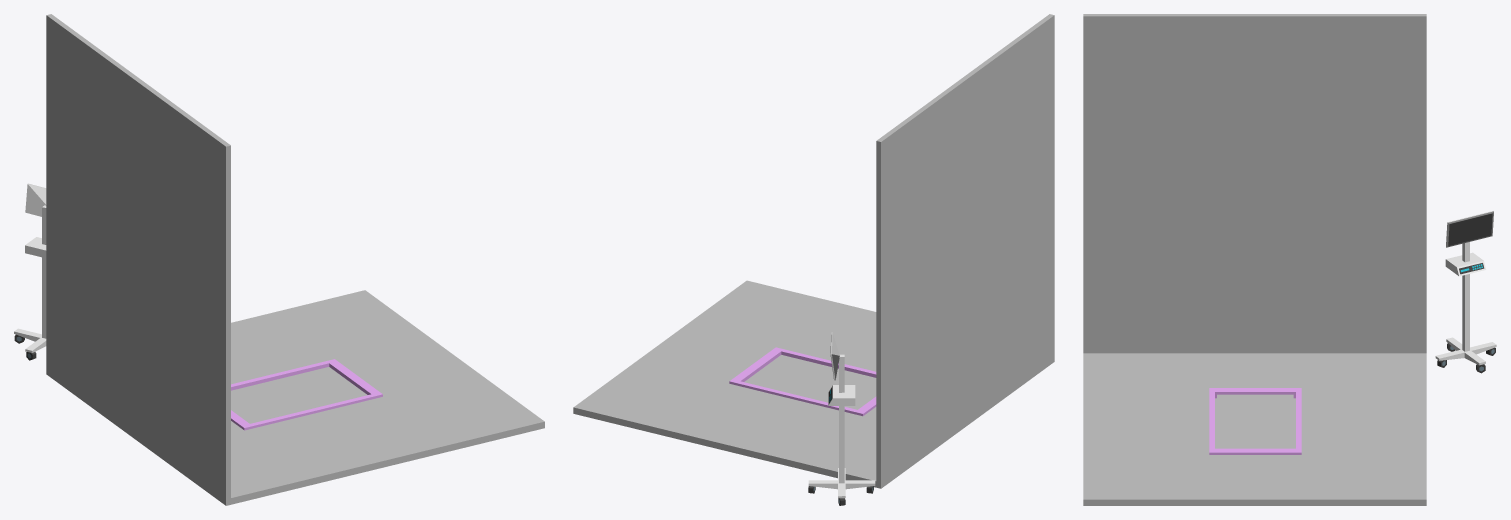
Rendered from jump2.glb.
The picture shows the model from 3 angles, left to right: view 1: azimuth 30°, elevation 25°; view 2: azimuth 150°, elevation 25°; view 3: azimuth 270°, elevation 25°; orthographic projection. The views are drawn at different scales.
Parts seen in each view (by area): view 1: 物件_4, 物件_5, 物件_3, 物件_1, 图层 01; view 2: 物件_4, 物件_5, 物件_3, 图层 01, 物件_1; view 3: 物件_4, 物件_5, 物件_3, 图层 01, 物件_1.
Boxes of the visible parts, x1,y1,x2,y2 form: 物件_4: [46, 14, 230, 505]; 物件_5: [46, 290, 544, 505]; 物件_3: [231, 367, 367, 423]; 物件_1: [231, 359, 382, 430]; 图层 01: [14, 183, 46, 360]; 物件_4: [876, 14, 1054, 488]; 物件_5: [573, 280, 1054, 488]; 物件_3: [744, 355, 876, 409]; 图层 01: [808, 332, 875, 505]; 物件_1: [729, 347, 876, 416]; 物件_4: [1083, 14, 1426, 353]; 物件_5: [1083, 353, 1426, 505]; 物件_3: [1217, 394, 1293, 448]; 图层 01: [1435, 211, 1496, 373]; 物件_1: [1209, 388, 1301, 454].
Size of the model in its own units: 0.676 by 0.7112 by 0.7758.
Materials: 3 (1 with a texture image).
